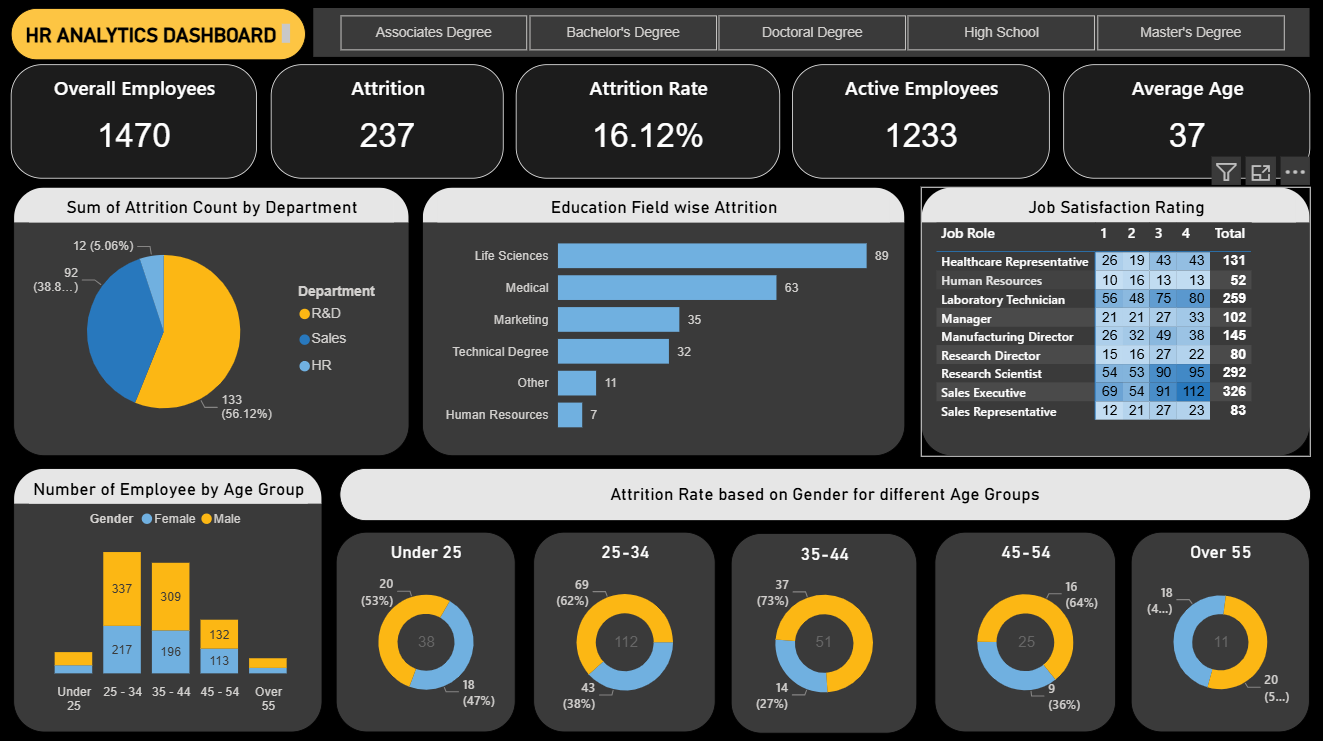

What the dashboard file says about the page in this screenshot:
{"tool":"powerbi","page":{"name":"Page 1","canvas":[1280,720],"ordinal":0},"visuals":[{"type":"card","title":"Overall Employees","fields":{"Values":["Sum(HR data.Employee Count)"]},"box":[13.8,63.8,237.5,110],"z":0},{"type":"card","title":"Attrition","fields":{"Values":["Sum(HR data.Attrition Count)"]},"box":[263.8,63.8,225,110],"z":1000},{"type":"card","title":"Attrition Rate","fields":{"Values":["HR data.Attrition Rate"]},"box":[501.2,63.8,255,110],"z":2000},{"type":"card","title":"Active Employees","fields":{"Values":["HR data.Active Employees"]},"box":[767.5,63.8,248.8,110],"z":3000},{"type":"card","title":"Average Age","fields":{"Values":["Avg(HR data.Age)"]},"box":[1028.8,63.8,238.8,110],"z":4000},{"type":"pieChart","fields":{"Category":["HR data.Department"],"Y":["Sum(HR data.Attrition Count)"]},"box":[16,182,382,260],"z":5000},{"type":"columnChart","title":"Number of Employee by Age Group","fields":{"Category":["HR data.CF_age band"],"Y":["Sum(HR data.Employee Count)"],"Series":["HR data.Gender"]},"box":[16.2,453.8,298.8,255],"z":6000},{"type":"pivotTable","title":"Job Satisfaction Rating","fields":{"Rows":["HR data.Job Role"],"Columns":["HR data.Job Satisfaction"],"Values":["Sum(HR data.Employee Count)"]},"box":[891.4,182.4,376.2,260],"z":7000},{"type":"barChart","title":"Education Field wise Attrition","fields":{"Category":["HR data.Education Field"],"Y":["Sum(HR data.Attrition Count)"]},"box":[410.2,182.4,466.2,260],"z":8000},{"type":"donutChart","title":"Under 25","fields":{"Category":["HR data.Gender"],"Y":["Sum(HR data.Attrition Count)"],"Series":["HR data.CF_age band"]},"box":[327.5,515,173.8,193.8],"z":9000},{"type":"textbox","box":[330,453.8,937.5,51.2],"z":10000},{"type":"donutChart","title":"25-34","fields":{"Category":["HR data.Gender"],"Y":["Sum(HR data.Attrition Count)"],"Series":["HR data.CF_age band"]},"box":[517.5,515,176.2,193.8],"z":11000},{"type":"donutChart","title":"35-44","fields":{"Category":["HR data.Gender"],"Y":["Sum(HR data.Attrition Count)"],"Series":["HR data.CF_age band"]},"box":[708.8,516.2,180,193.8],"z":12000},{"type":"donutChart","title":"45-54","fields":{"Category":["HR data.Gender"],"Y":["Sum(HR data.Attrition Count)"],"Series":["HR data.CF_age band"]},"box":[905,515,175,193.8],"z":13000},{"type":"donutChart","title":"Over 55","fields":{"Category":["HR data.Gender"],"Y":["Sum(HR data.Attrition Count)"],"Series":["HR data.CF_age band"]},"box":[1093.8,515,172.5,193.8],"z":14000},{"type":"card","fields":{"Values":["Sum(HR data.Attrition Count)"]},"box":[388.8,600,52.5,47.5],"z":15000},{"type":"card","fields":{"Values":["Sum(HR data.Attrition Count)"]},"box":[576.2,600,61.2,47.5],"z":16000},{"type":"card","fields":{"Values":["Sum(HR data.Attrition Count)"]},"box":[772.5,600,52.5,47.5],"z":17000},{"type":"card","fields":{"Values":["Sum(HR data.Attrition Count)"]},"box":[967.6,599.6,53.1,48.3],"z":18000},{"type":"card","fields":{"Values":["Sum(HR data.Attrition Count)"]},"box":[1156.2,600,52.5,47.5],"z":19000},{"type":"textbox","box":[13.8,10,285,50],"z":20000},{"type":"slicer","fields":{"Values":["HR data.Education"]},"box":[305,10,961.2,47.5],"z":20001}]}

Visuals, with their boxes in screenshot pixels (x1, y1, x2, y2), scaled from the page's 1280x720 canvas onto the 1323x741 screenshot:
"Overall Employees" card: BBox(14, 66, 260, 179)
"Attrition" card: BBox(273, 66, 505, 179)
"Attrition Rate" card: BBox(518, 66, 782, 179)
"Active Employees" card: BBox(793, 66, 1050, 179)
"Average Age" card: BBox(1063, 66, 1310, 179)
pieChart - HR data.Department x Sum(HR data.Attrition Count): BBox(17, 187, 411, 455)
"Number of Employee by Age Group" columnChart: BBox(17, 467, 326, 729)
"Job Satisfaction Rating" pivotTable: BBox(921, 188, 1310, 455)
"Education Field wise Attrition" barChart: BBox(424, 188, 906, 455)
"Under 25" donutChart: BBox(339, 530, 518, 729)
textbox: BBox(341, 467, 1310, 520)
"25-34" donutChart: BBox(535, 530, 717, 729)
"35-44" donutChart: BBox(733, 531, 919, 731)
"45-54" donutChart: BBox(935, 530, 1116, 729)
"Over 55" donutChart: BBox(1131, 530, 1309, 729)
card - Sum(HR data.Attrition Count): BBox(402, 617, 456, 666)
card - Sum(HR data.Attrition Count): BBox(596, 617, 659, 666)
card - Sum(HR data.Attrition Count): BBox(798, 617, 853, 666)
card - Sum(HR data.Attrition Count): BBox(1000, 617, 1055, 667)
card - Sum(HR data.Attrition Count): BBox(1195, 617, 1249, 666)
textbox: BBox(14, 10, 309, 62)
slicer - HR data.Education: BBox(315, 10, 1309, 59)
